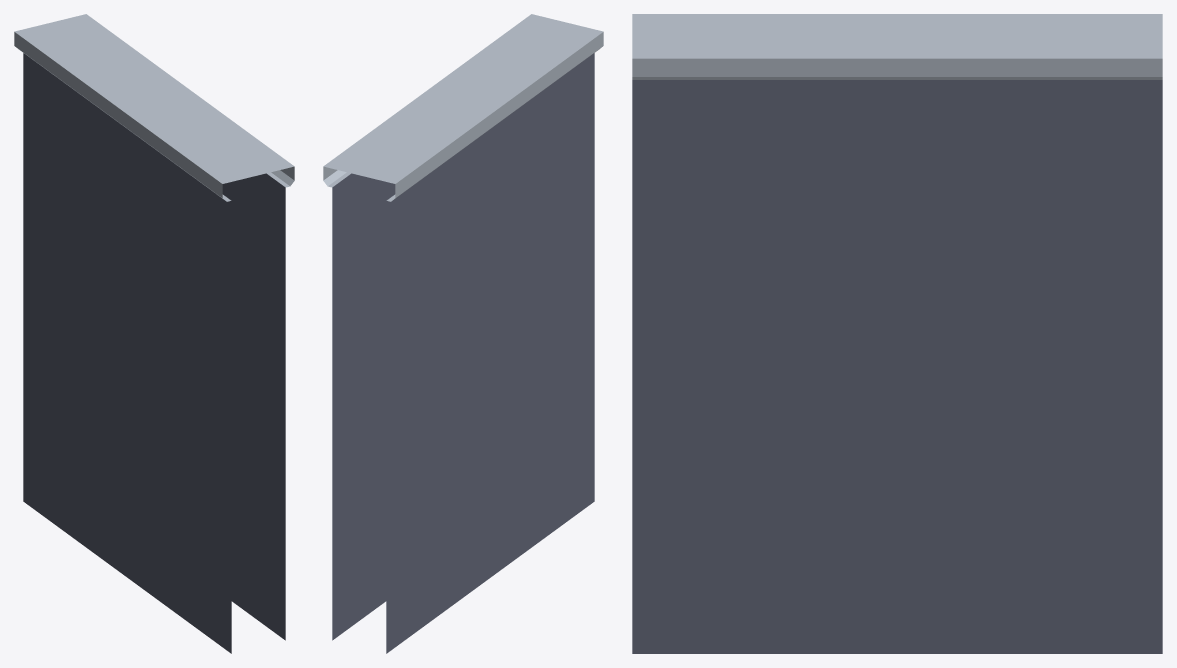
The model's file is Stone_wall_middle.fbx.
3 renders of one model, left to right at view 1: azimuth 30°, elevation 25°; view 2: azimuth 150°, elevation 25°; view 3: azimuth 270°, elevation 25°, orthographic. The views are drawn at different scales.
Visible parts, largest first — view 1: Stone_wall_middle_object; view 2: Stone_wall_middle_object; view 3: Stone_wall_middle_object.
Part boxes in pixels (x1=…): Stone_wall_middle_object: x1=14, y1=14, x2=294, y2=653; Stone_wall_middle_object: x1=323, y1=14, x2=603, y2=653; Stone_wall_middle_object: x1=632, y1=14, x2=1162, y2=653.
Size of what is drawn, in the model's own units: 800 by 5000 by 4000.
